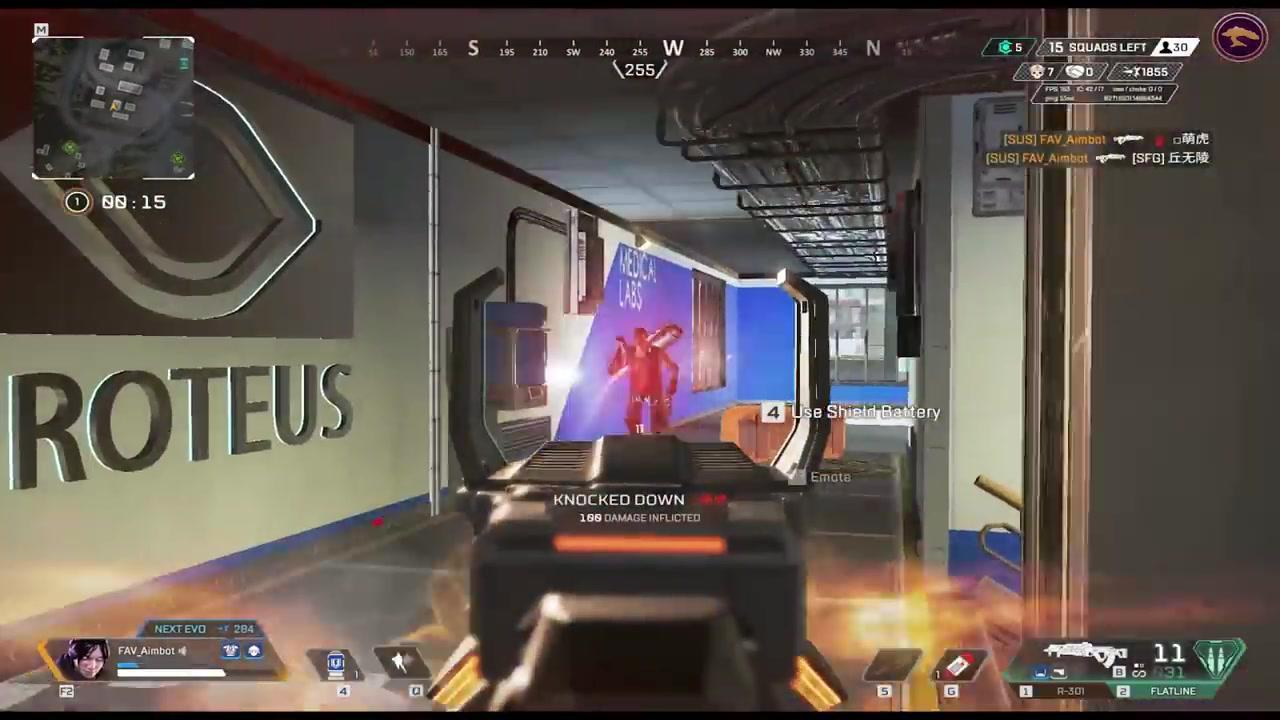avatar: (603, 320, 685, 435)
